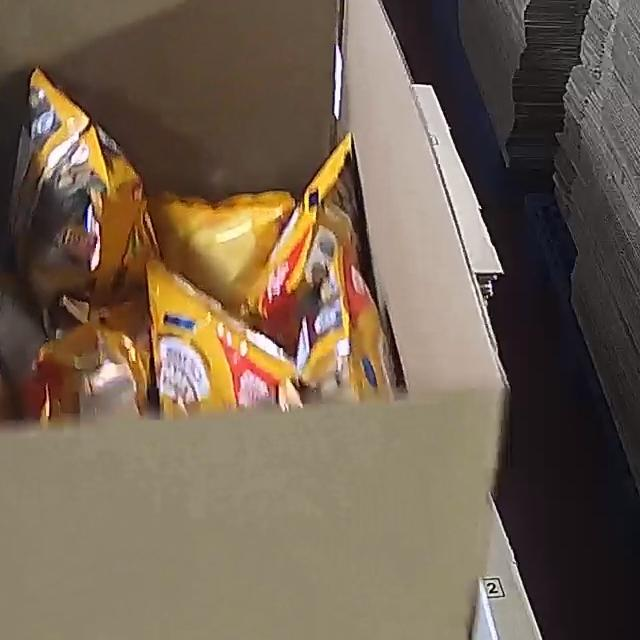cheese: (0, 55, 415, 422)
